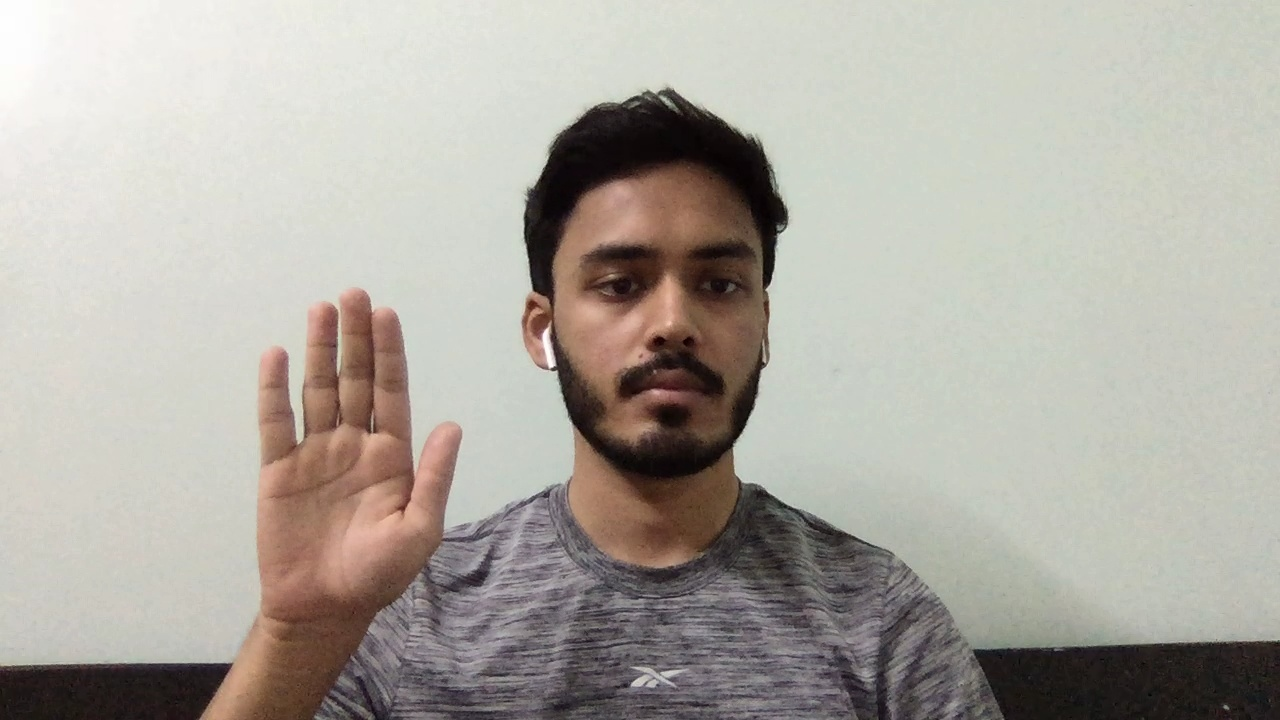Hello: (237, 281, 469, 627)
